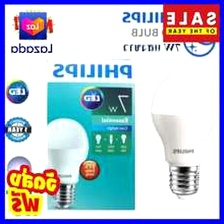book: (44, 56, 137, 213)
light_bulb: (150, 69, 220, 203)
